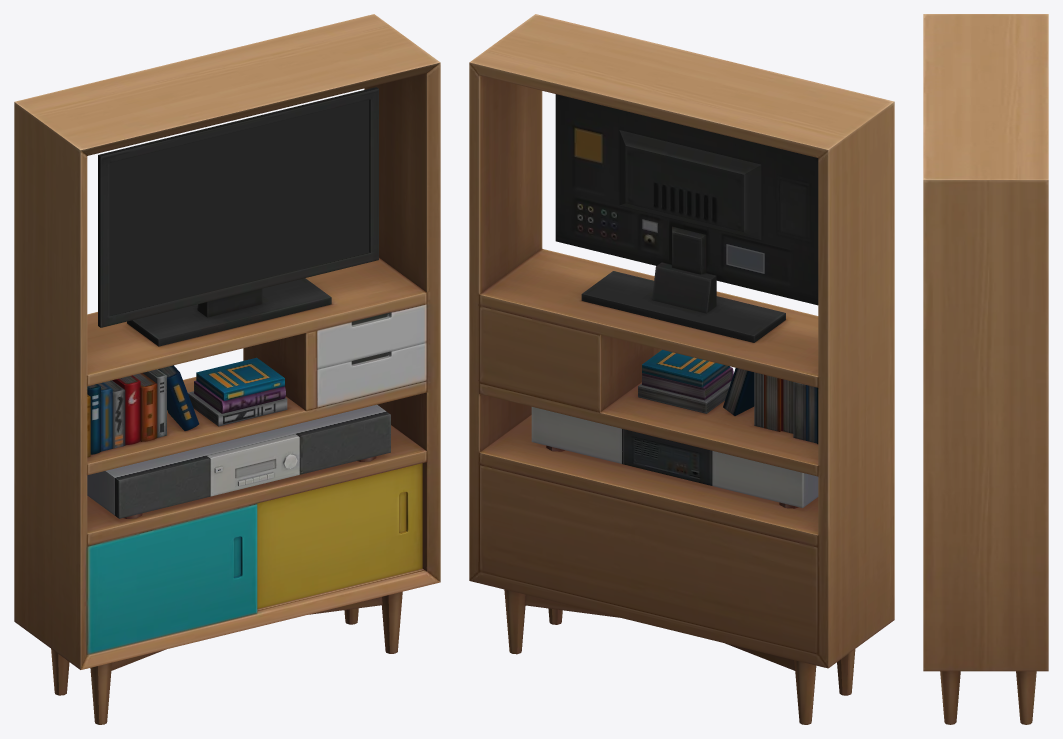
The model's file is tiny_media_marathoner.glb.
3 renders of one model, left to right at view 1: azimuth 30°, elevation 25°; view 2: azimuth 150°, elevation 25°; view 3: azimuth 270°, elevation 25°, orthographic. The views are drawn at different scales.
Parts seen in each view (by area): view 1: Object_16, Object_18; view 2: Object_16; view 3: Object_16.
Part boxes in pixels (x1,y1,x2,y2): Object_16: (14, 14, 440, 724); Object_18: (109, 100, 369, 315); Object_16: (469, 14, 894, 724); Object_16: (923, 14, 1048, 724).
Size of the model in its own units: 1.94 by 3.05 by 0.6201.
Materials: 2 (1 with a texture image).
